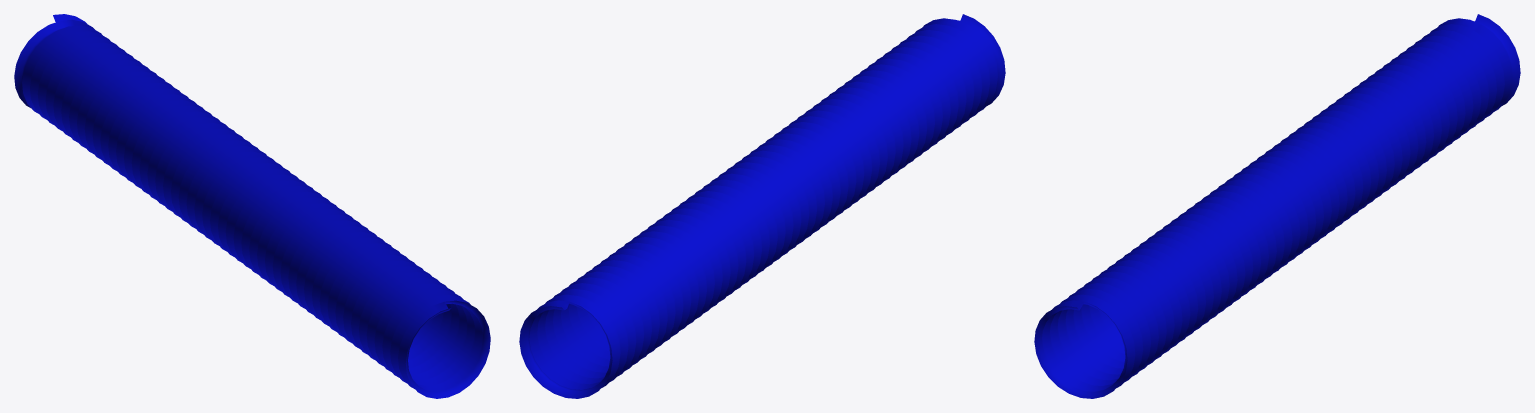
The model's file is screw_thread.obj.
3 views of the same model, side by side, from view 1: azimuth 30°, elevation 25°; view 2: azimuth 150°, elevation 25°; view 3: azimuth 330°, elevation 25° (orthographic).
Visible parts, largest first — view 1: screw_thread_Circle.004; view 2: screw_thread_Circle.004; view 3: screw_thread_Circle.004.
Boxes of the visible parts, x1=… form: screw_thread_Circle.004: x1=14, y1=14, x2=490, y2=398; screw_thread_Circle.004: x1=519, y1=14, x2=1005, y2=398; screw_thread_Circle.004: x1=1034, y1=14, x2=1520, y2=398.
Bounding box in the file's own units: 0.1125 × 0.1125 × 0.8759.
